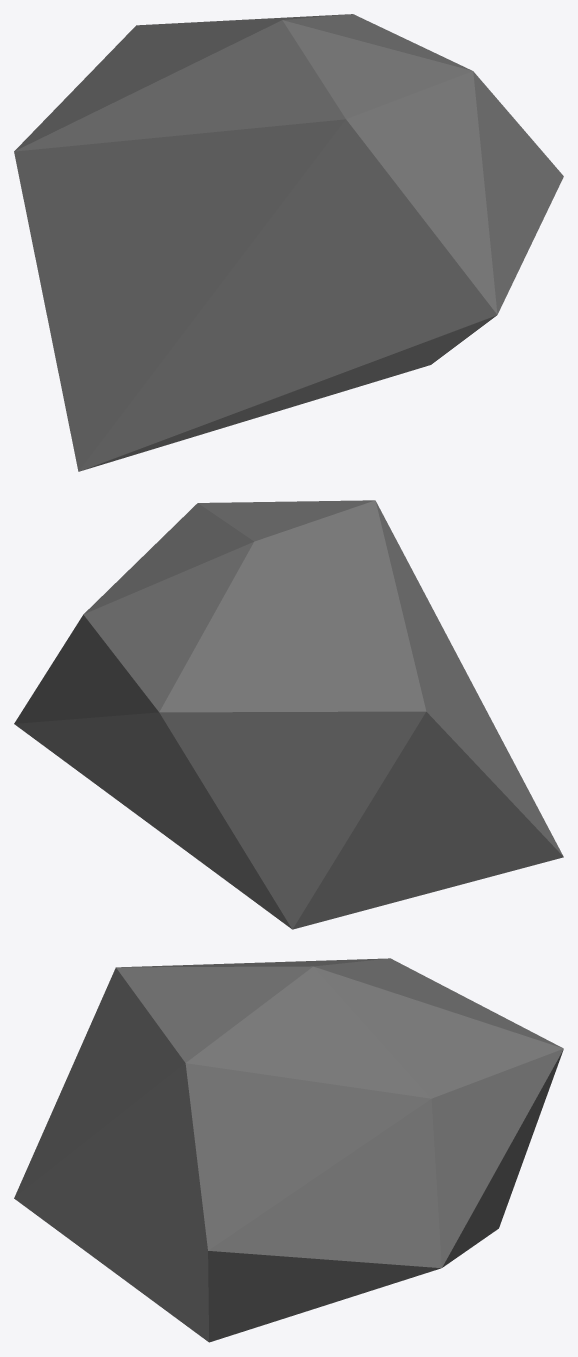
Rendered from Rock_02.fbx.
3 renders of one model, top to bottom at view 1: azimuth 30°, elevation 25°; view 2: azimuth 150°, elevation 25°; view 3: azimuth 270°, elevation 25°, orthographic. The views are drawn at different scales.
Parts seen in each view (by area): view 1: Rock_02; view 2: Rock_02; view 3: Rock_02.
Part boxes in pixels (box(x1,y1,x2,y2)): Rock_02: box(14, 14, 563, 471); Rock_02: box(14, 500, 563, 929); Rock_02: box(14, 958, 563, 1342).
Bounding box in the file's own units: 2.92 × 1.86 × 2.78.
